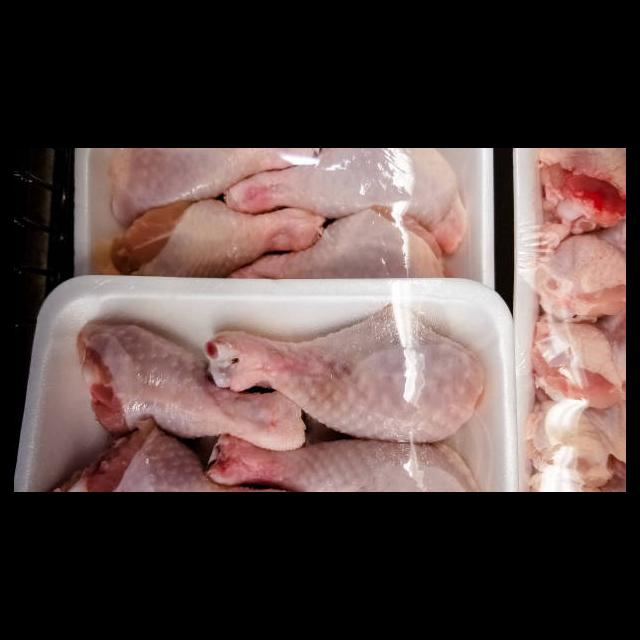chicken: (200, 300, 489, 443), (74, 320, 309, 452), (224, 149, 472, 258), (105, 195, 325, 276), (225, 208, 449, 287), (207, 432, 485, 492), (103, 149, 323, 217)
